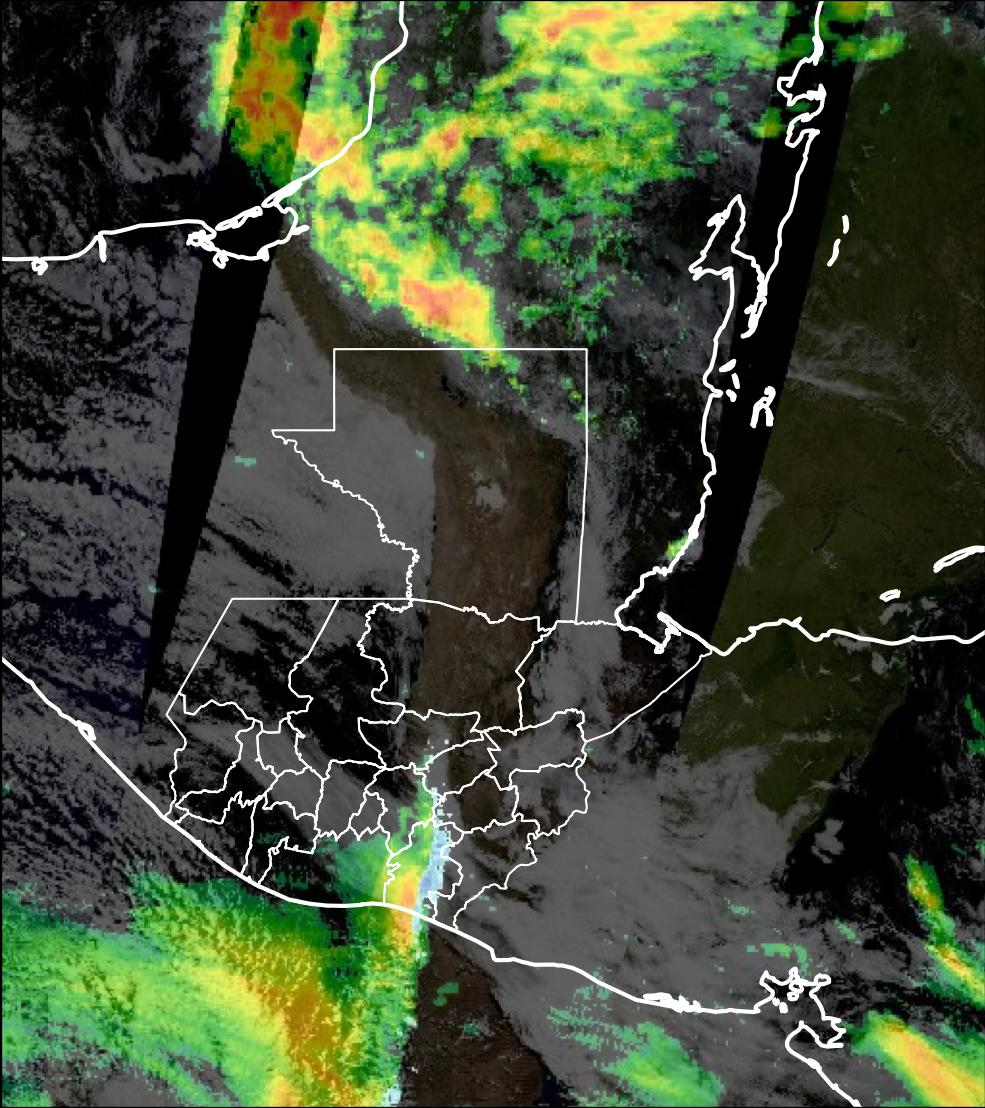precipitacion: (393, 266, 499, 343), (883, 1024, 977, 1108)
